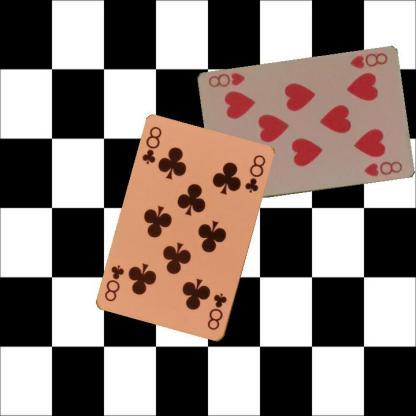8c: (204, 290, 228, 332), (140, 124, 164, 166)
8h: (347, 51, 389, 70)
